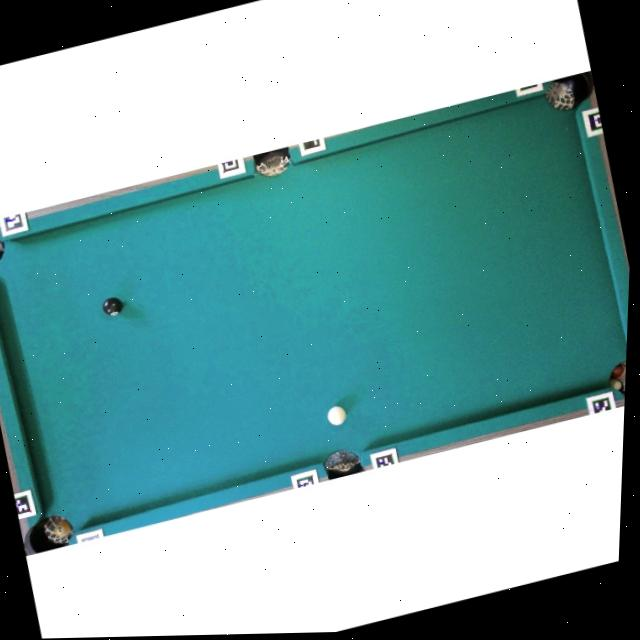cue ball: (325, 403, 349, 428)
other: (101, 294, 125, 318)
